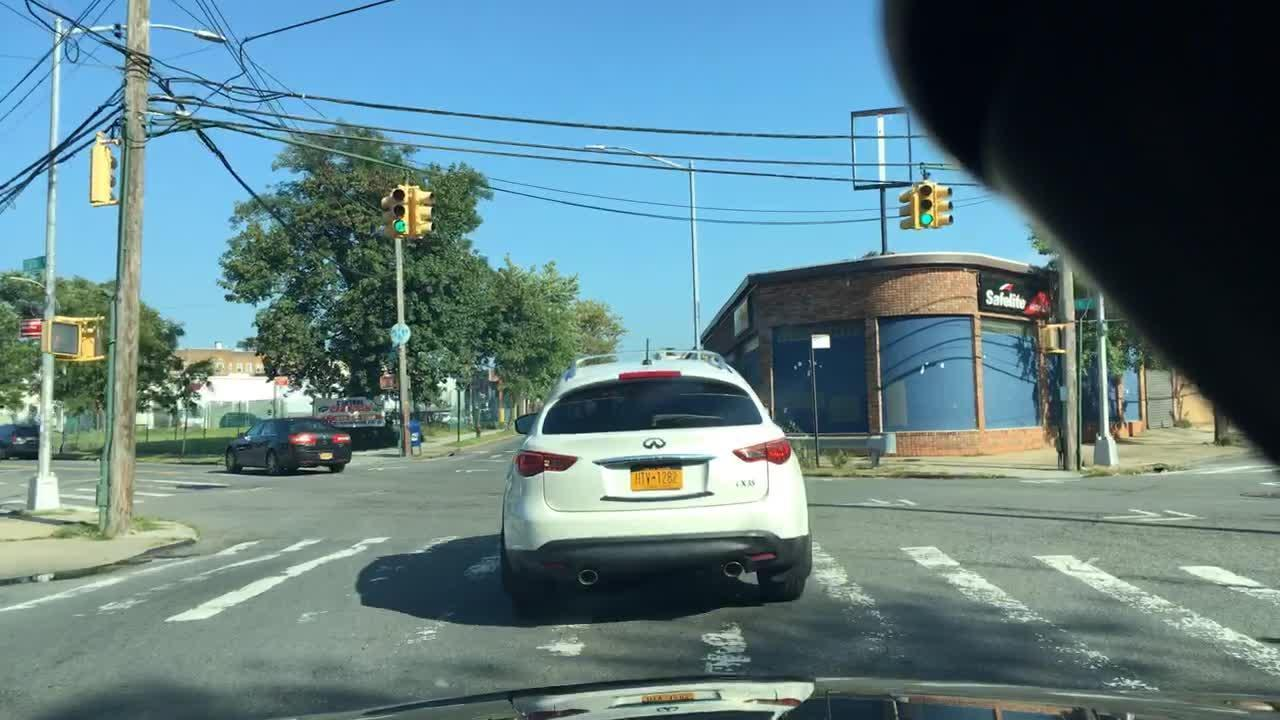Infiniti: (634, 430, 675, 451)
